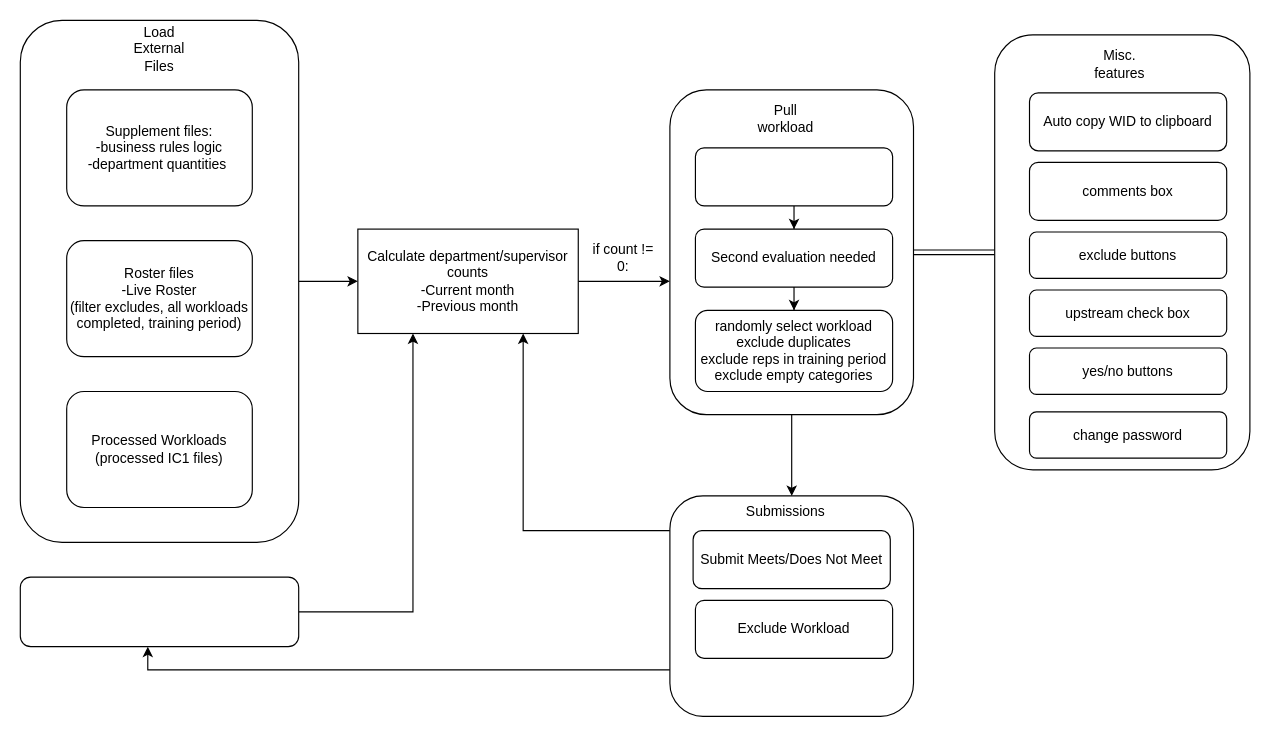
The diagram is 1270 pixels wide and 737 high, and some of its shapes have lost their labels. The shapes that lost their labels are listed below. From the top down, each one's box as (x1, y1, x2, y2) in pixels, then its label:
(694, 147, 893, 206): Third evaluation needed
(19, 576, 299, 647): Call databases
